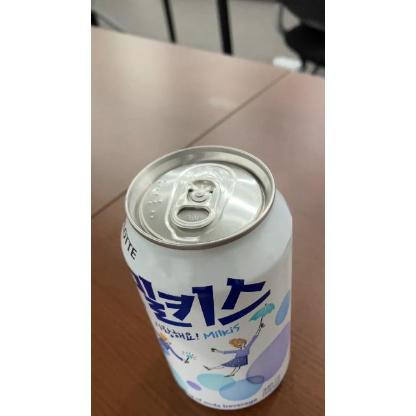Can: (122, 144, 292, 410)
